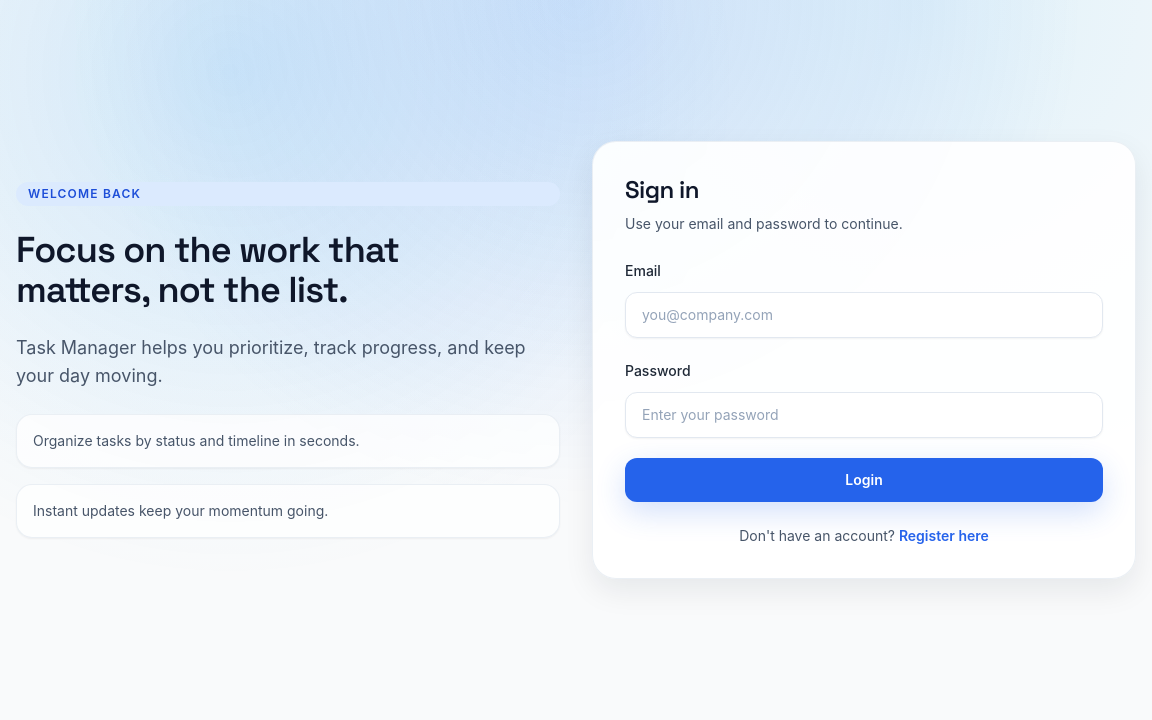
Test: Login Component › should show validation errors for empty fields
The width and height of the screenshot is (1152, 720).
Click the button "Login" at [864, 480], box [625,458,1103,502]
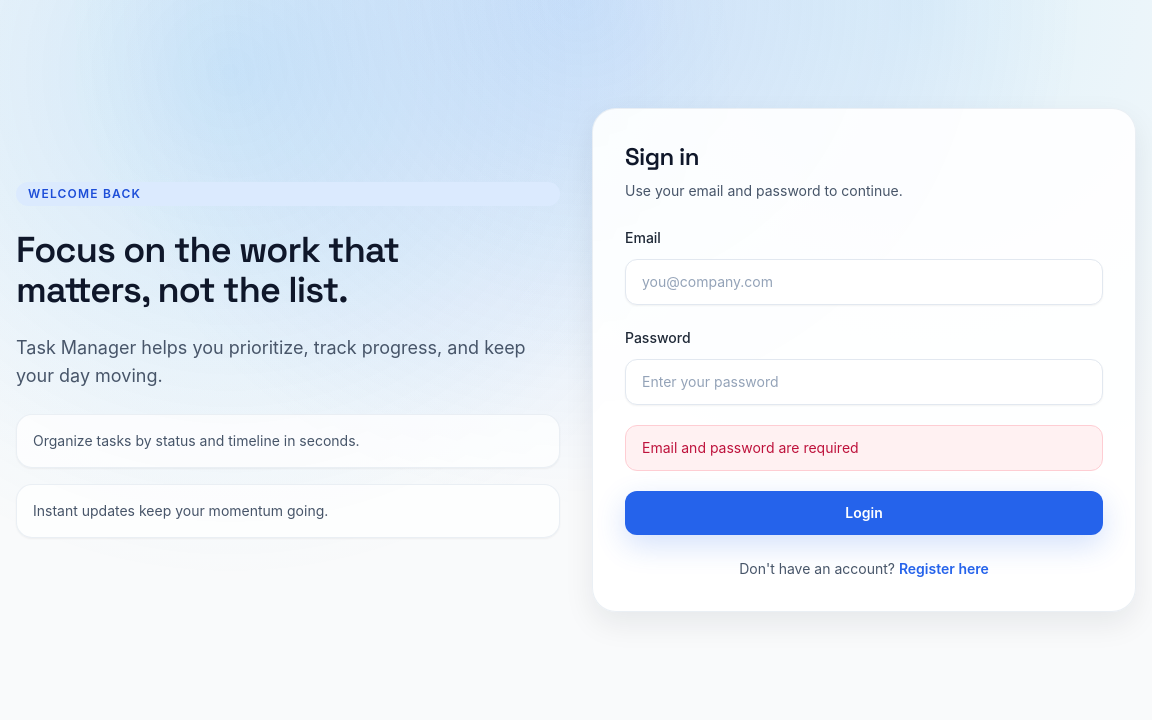
Result: the text "Email and password are required" is shown at [625,425,1103,471]
